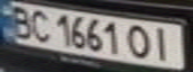1: (100, 19, 124, 55), (51, 11, 72, 47)
6: (84, 17, 106, 53), (66, 15, 87, 49)
B: (3, 2, 39, 38)
C: (24, 7, 54, 43)
I: (148, 24, 181, 62)
O: (124, 22, 154, 60)
